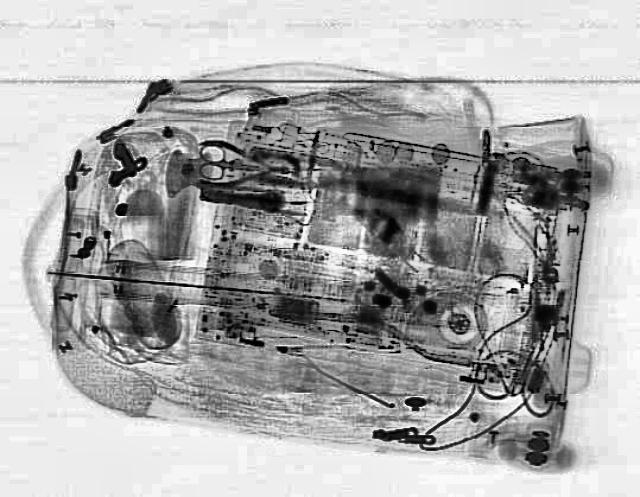Scissors: (192, 140, 282, 186)
